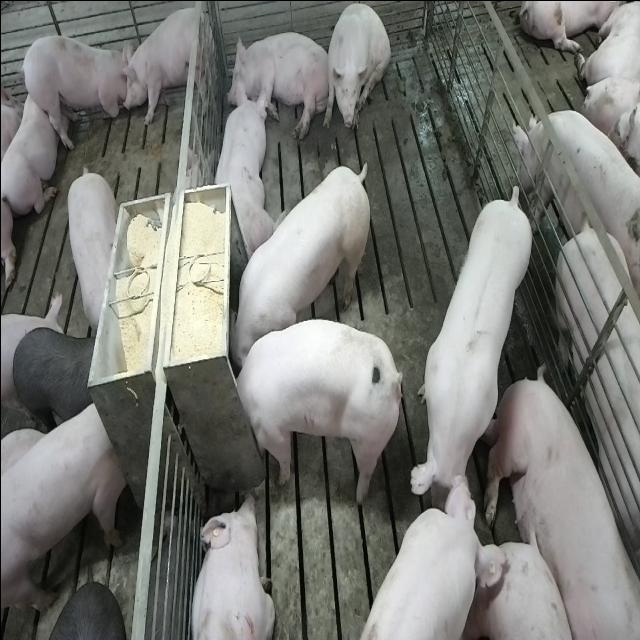Feeding: (224, 318, 396, 502), (228, 159, 376, 366)
Lateral_lying: (481, 367, 637, 640), (225, 28, 331, 140)
Sitting: (325, 2, 390, 136)
Standing: (404, 184, 533, 522), (551, 219, 640, 575), (1, 394, 124, 619), (352, 478, 499, 640), (518, 104, 640, 288), (21, 30, 130, 151), (120, 2, 210, 131), (62, 161, 116, 332), (11, 326, 96, 428)
Sternal_lying: (186, 490, 274, 640), (208, 85, 276, 264), (1, 78, 59, 216)
